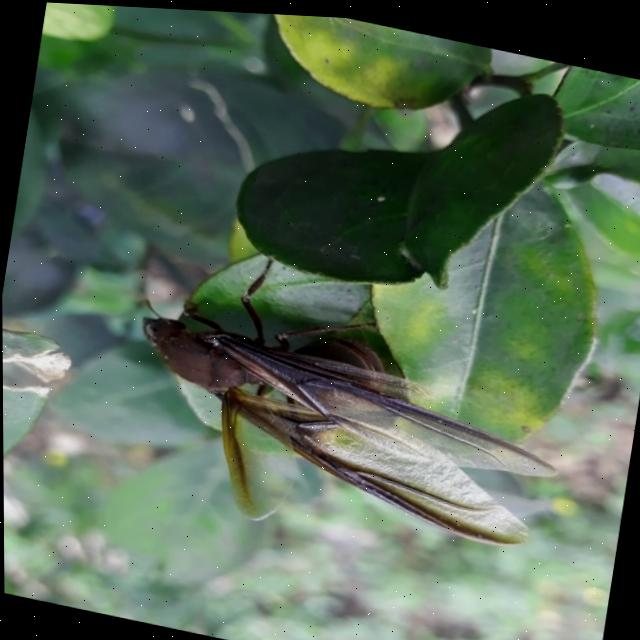Alive-Female-Alate: (115, 231, 581, 577)
